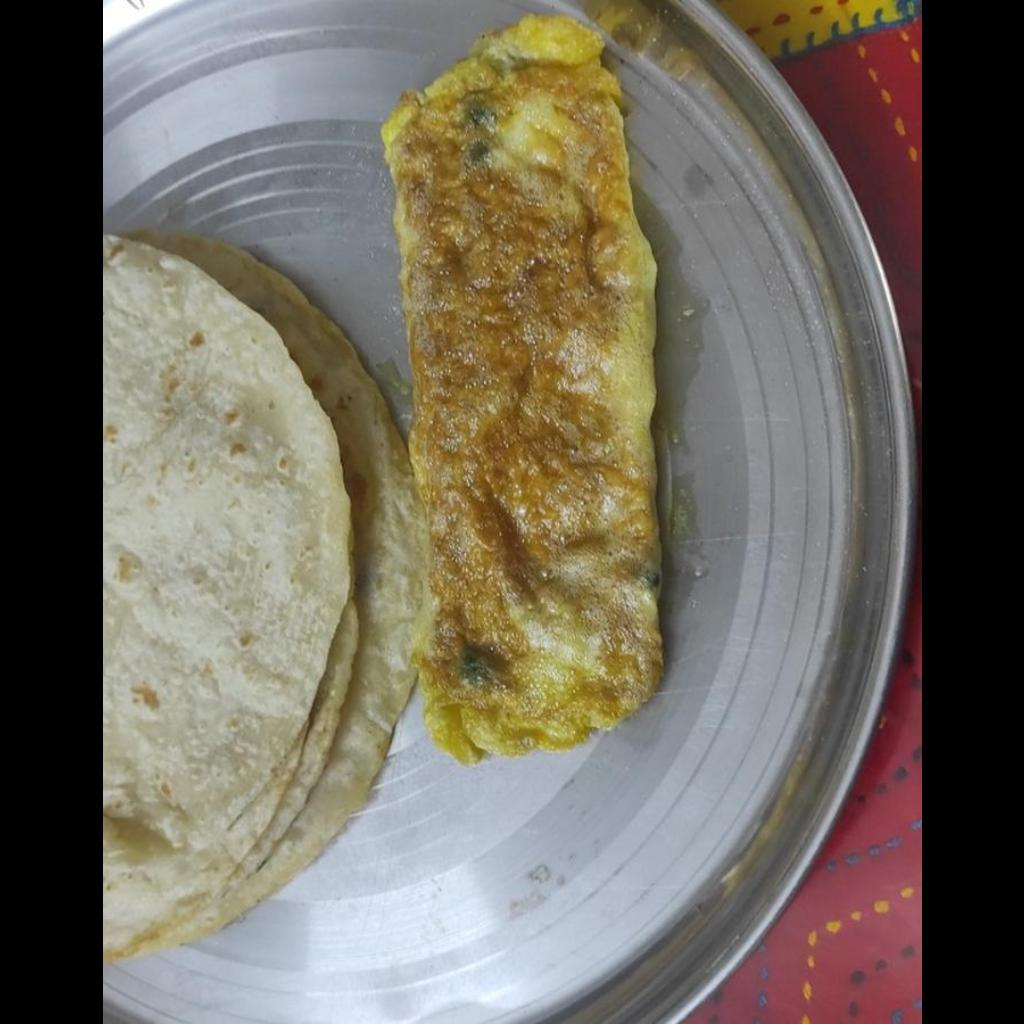egg-poached: (378, 18, 663, 763)
ruti: (102, 231, 424, 958)
